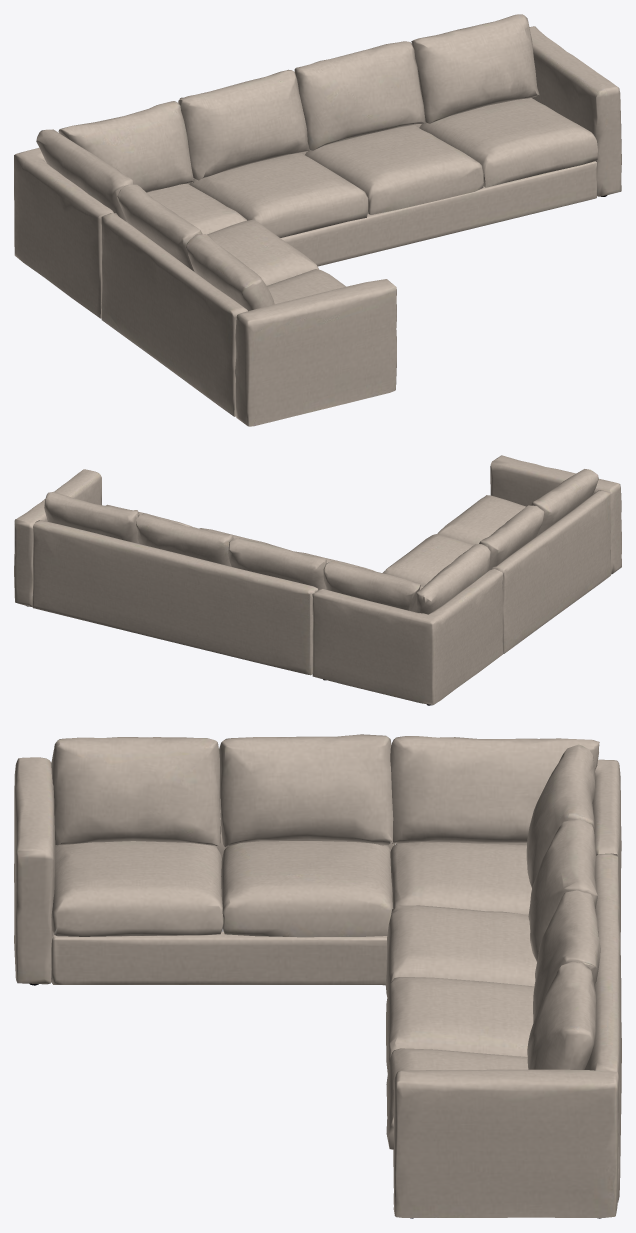
3 renders of one model, top to bottom at view 1: azimuth 30°, elevation 25°; view 2: azimuth 150°, elevation 25°; view 3: azimuth 270°, elevation 25°, orthographic. The views are drawn at different scales.
Visible parts, largest first — view 1: Mesh_0; view 2: Mesh_0; view 3: Mesh_0.
Part boxes in pixels (x1,y1,x2,y2): Mesh_0: (14,14,621,426); Mesh_0: (14,455,621,705); Mesh_0: (14,734,621,1218).
Size of the model in its own units: 3.23 by 0.8219 by 2.52.
1 material, 1 textured.
